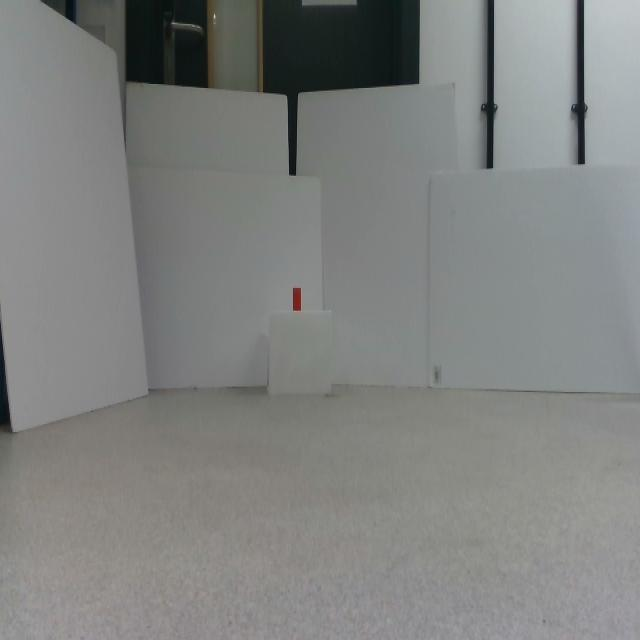red_cylinder: (293, 288, 301, 310)
